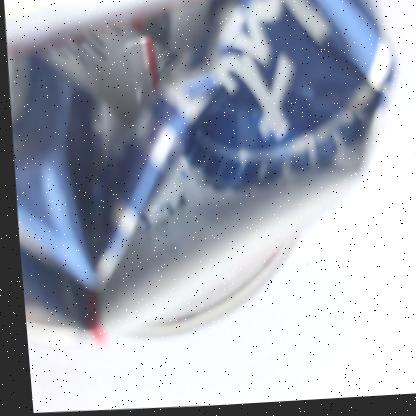Metal: (9, 0, 393, 338)
